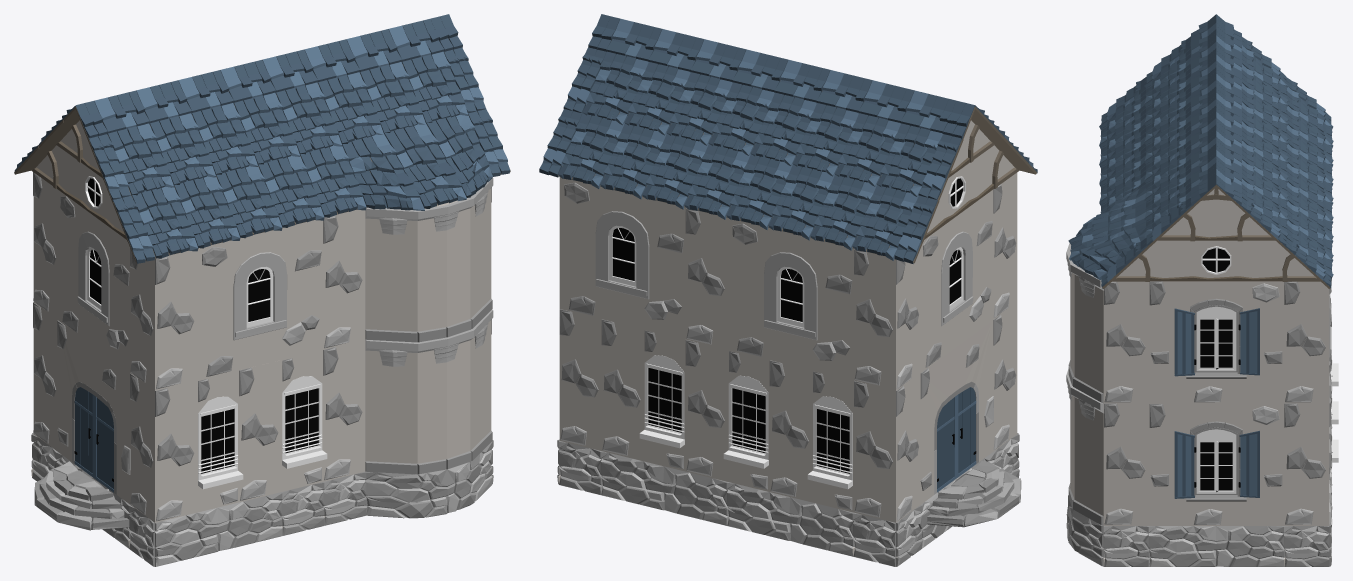
Rendered from house_19.fbx.
3 views of the same model, side by side, from view 1: azimuth 30°, elevation 25°; view 2: azimuth 150°, elevation 25°; view 3: azimuth 270°, elevation 25° (orthographic). The views are drawn at different scales.
Visible parts, largest first — view 1: BALKON_01_3, BALKON_01_2, WINDOW_07_3, ROOF_base_round_2, DOOR_03_4, WINDOW_07_4, WINDOW_01_3, FOUNDATION_01_3, WALL_03_6, WALL_03_7, FOUNDATION_02_2, WINDOW_01_2 (+46 smaller); view 2: WINDOW_07_5, WINDOW_07_6, DOOR_03_4, WINDOW_07_4, WINDOW_01_6, WINDOW_01_5, WALL_03_19, FOUNDATION_01_5, FOUNDATION_01_4, WALL_03_15, WALL_03_14, WALL_03_18 (+50 smaller); view 3: WINDOW_05_2, WINDOW_05_3, WALL_03_23, WALL_03_22, FOUNDATION_01_6, WALL_03_20, WALL_03_21, BALKON_01_3, BALKON_01_2, ROOF_base_round_2, ROOF_TRIANGLE_WINDOW_ROUND_3, FOUNDATION_03_5 (+59 smaller).
Boxes of the visible parts, x1,y1,x2,y2 form: BALKON_01_3: (365, 178, 493, 342); BALKON_01_2: (365, 309, 493, 474); WINDOW_07_3: (197, 220, 323, 380); ROOF_base_round_2: (342, 115, 492, 210); DOOR_03_4: (57, 320, 130, 504); WINDOW_07_4: (58, 190, 130, 372); WINDOW_01_3: (281, 350, 327, 491); FOUNDATION_01_3: (154, 492, 282, 566); WALL_03_6: (323, 339, 365, 481); WALL_03_7: (323, 209, 365, 349); FOUNDATION_02_2: (365, 441, 492, 518); WINDOW_01_2: (197, 370, 243, 512); WINDOW_07_5: (727, 218, 853, 380); WINDOW_07_6: (559, 177, 685, 339); DOOR_03_4: (920, 320, 993, 504); WINDOW_07_4: (920, 190, 992, 372); WINDOW_01_6: (639, 329, 685, 471); WINDOW_01_5: (723, 350, 769, 491); WALL_03_19: (559, 309, 601, 450); FOUNDATION_01_5: (600, 451, 727, 525); FOUNDATION_01_4: (726, 482, 854, 556); WALL_03_15: (685, 208, 727, 349); WALL_03_14: (685, 339, 727, 481); WALL_03_18: (601, 319, 643, 461); WINDOW_05_2: (1148, 403, 1283, 525); WINDOW_05_3: (1148, 281, 1283, 403); WALL_03_23: (1103, 403, 1148, 525); WALL_03_22: (1103, 281, 1148, 403); FOUNDATION_01_6: (1148, 526, 1283, 566); WALL_03_20: (1284, 403, 1329, 525); WALL_03_21: (1284, 281, 1329, 403); BALKON_01_3: (1066, 243, 1103, 403); BALKON_01_2: (1066, 369, 1103, 525); ROOF_base_round_2: (1068, 182, 1146, 280); ROOF_TRIANGLE_WINDOW_ROUND_3: (1194, 240, 1238, 281); FOUNDATION_03_5: (1284, 526, 1329, 566).
Bounding box in the file's own units: 965 × 959 × 603.
